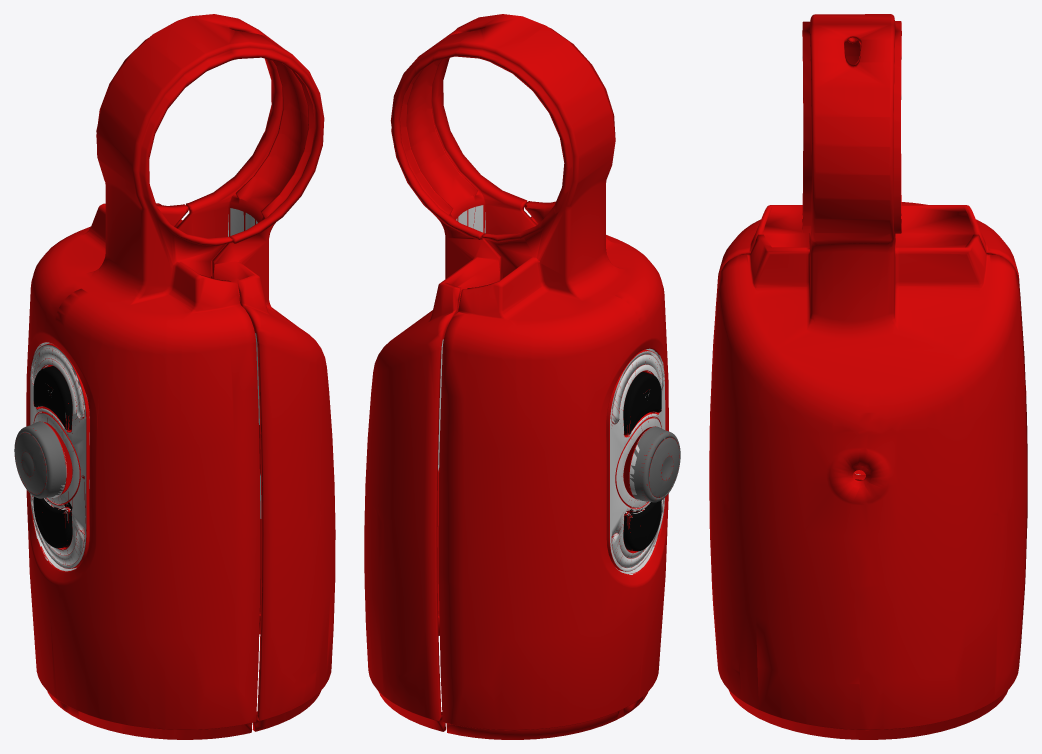
The picture shows the model from 3 angles, left to right: view 1: azimuth 30°, elevation 25°; view 2: azimuth 150°, elevation 25°; view 3: azimuth 270°, elevation 25°; orthographic projection. The views are drawn at different scales.
Parts seen in each view (by area): view 1: W0; view 2: W0; view 3: W0.
Part boxes in pixels (x1=…): W0: x1=14, y1=14, x2=335, y2=739; W0: x1=364, y1=14, x2=680, y2=739; W0: x1=709, y1=14, x2=1027, y2=739.
Size of the model in its own units: 0.1581 by 0.1483 by 0.3418.
